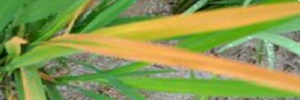RiceTungro: (51, 33, 300, 68), (113, 6, 297, 33)
